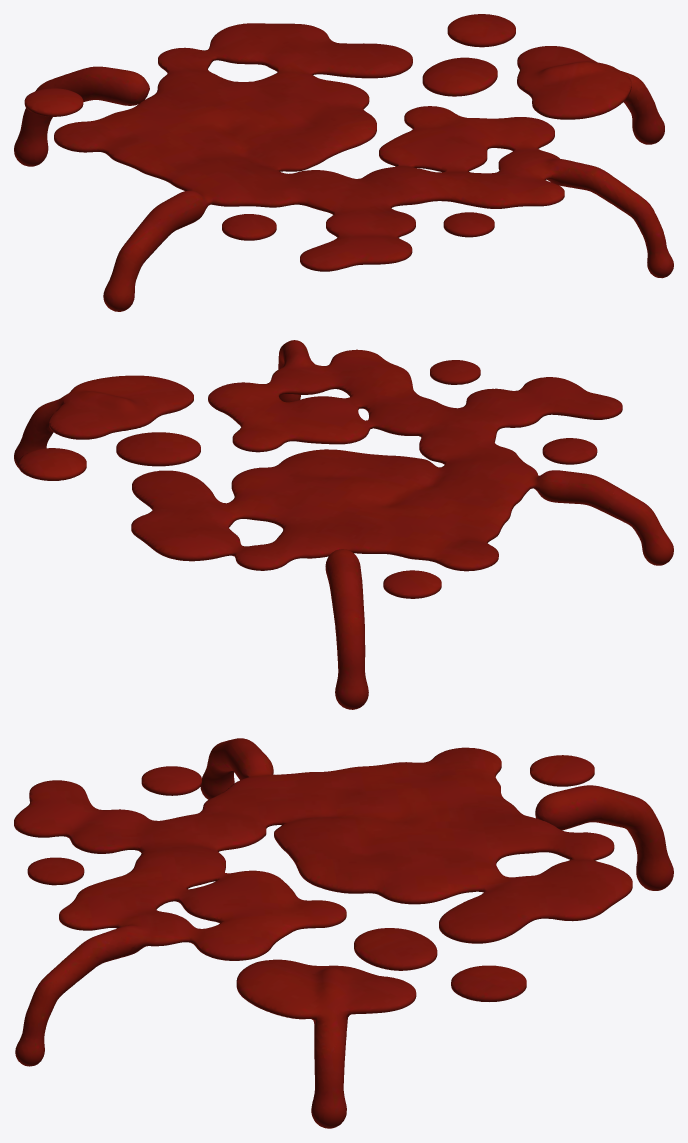
File: sauce_ketchup.glb
3 renders of one model, top to bottom at view 1: azimuth 30°, elevation 25°; view 2: azimuth 150°, elevation 25°; view 3: azimuth 270°, elevation 25°, orthographic. The views are drawn at different scales.
Visible parts, largest first — view 1: sauce_ketchup_web; view 2: sauce_ketchup_web; view 3: sauce_ketchup_web.
Boxes of the visible parts, left/top/right/bottom form: sauce_ketchup_web: left=14, top=14, right=673, bottom=311; sauce_ketchup_web: left=14, top=340, right=673, bottom=709; sauce_ketchup_web: left=14, top=738, right=673, bottom=1128.
Bounding box in the file's own units: 0.1231 × 0.0217 × 0.1047.
Materials: 1 (1 with a texture image).
